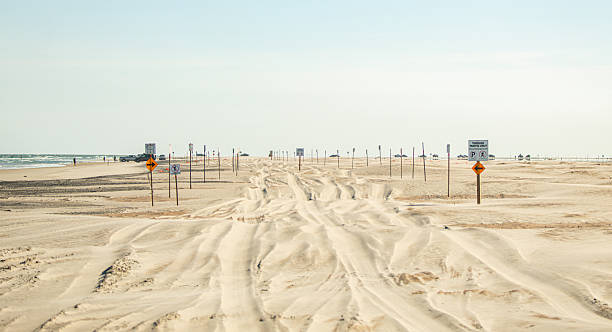vehicle_track: (283, 168, 453, 331), (21, 212, 154, 329), (92, 220, 223, 331), (446, 219, 592, 318), (226, 182, 269, 331), (364, 180, 418, 268), (338, 177, 376, 252)
